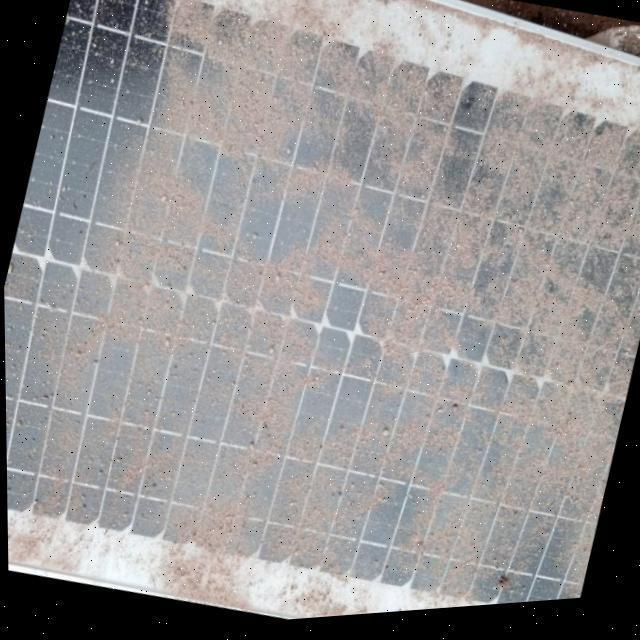Surface Contaminant: (15, 18, 640, 617)
